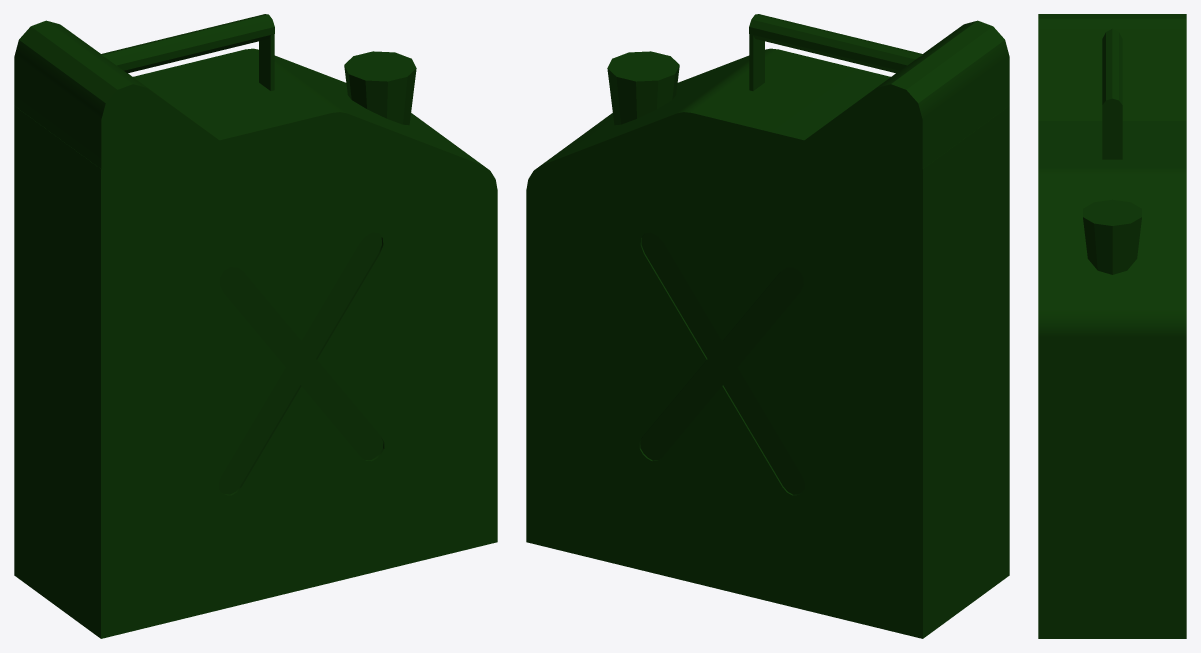
File: Kanister.fbx
3 views of the same model, side by side, from view 1: azimuth 30°, elevation 25°; view 2: azimuth 150°, elevation 25°; view 3: azimuth 270°, elevation 25° (orthographic). The views are drawn at different scales.
Visible parts, largest first — view 1: pCylinder3; view 2: pCylinder3; view 3: pCylinder3.
Boxes of the visible parts, x1=… form: pCylinder3: x1=14, y1=14, x2=497, y2=638; pCylinder3: x1=526, y1=14, x2=1009, y2=638; pCylinder3: x1=1038, y1=14, x2=1186, y2=638.
Bounding box in the file's own units: 141 × 186 × 53.43.
